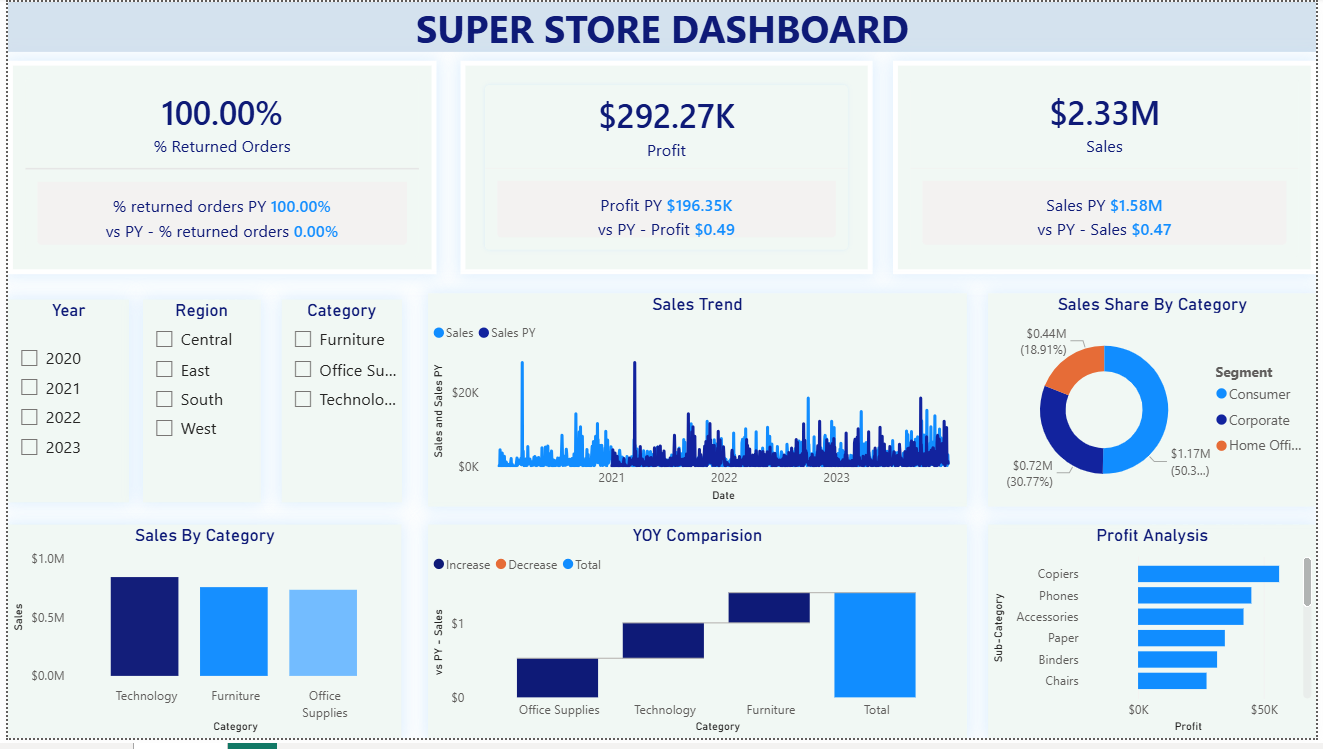

What the dashboard file says about the page in this screenshot:
{"tool":"powerbi","page":{"name":"Page 1","canvas":[1280,720],"ordinal":0},"visuals":[{"type":"cardVisual","fields":{"Data":["Key metrix 1.% Returned Orders"]},"box":[0,57.5,419.4,209.1],"z":0},{"type":"shape","box":[0,0,1280.3,48.9],"z":1000},{"type":"cardVisual","fields":{"Data":["Key metrix 1.Profit"]},"box":[442.7,57.5,403.5,209.1],"z":2000},{"type":"cardVisual","fields":{"Data":["Key metrix 1.Sales"]},"box":[865.8,57.5,414.5,209.1],"z":3000},{"type":"lineChart","title":"Sales Trend","fields":{"Category":["Date Table.Date"],"Y":["Key metrix 1.Sales","Key metrix 1.Sales PY"]},"box":[410.9,284.9,527,209.1],"z":4000},{"type":"clusteredColumnChart","title":"Sales By Category","fields":{"Category":["Orders.Category"],"Y":["Key metrix 1.Sales"]},"box":[0,511.1,385.2,209.1],"z":5000},{"type":"clusteredBarChart","title":"Profit Analysis","fields":{"Category":["Orders.Sub-Category"],"Y":["Key metrix 1.Profit"]},"box":[958.7,511.1,321.6,209.1],"z":6000},{"type":"waterfallChart","title":"YOY Comparision","fields":{"Y":["Key metrix 1.vs PY - Sales"],"Category":["Orders.Category"]},"box":[410.9,511.1,527,209.1],"z":7000},{"type":"slicer","title":"Year","fields":{"Values":["Date Table.Year"]},"box":[0,291,118.6,198.1],"z":8000},{"type":"slicer","title":"Region","fields":{"Values":["Orders.Region"]},"box":[132.1,291,114.9,198.1],"z":9000},{"type":"slicer","title":"Category","fields":{"Values":["Orders.Category"]},"box":[267.8,291,117.4,198.1],"z":10000},{"type":"donutChart","title":"Sales Share By Category","fields":{"Category":["Orders.Segment"],"Y":["Key metrix 1.Sales"]},"box":[958.7,284.9,321.6,209.1],"z":11000}]}

Visuals, with their boxes in screenshot pixels (x1, y1, x2, y2), scaled from the page's 1280x720 canvas onto the 1323x749 screenshot:
cardVisual - Key metrix 1.% Returned Orders: rect(0, 60, 433, 277)
shape: rect(0, 0, 1322, 51)
cardVisual - Key metrix 1.Profit: rect(458, 60, 875, 277)
cardVisual - Key metrix 1.Sales: rect(895, 60, 1322, 277)
"Sales Trend" lineChart: rect(425, 296, 969, 514)
"Sales By Category" clusteredColumnChart: rect(0, 532, 398, 748)
"Profit Analysis" clusteredBarChart: rect(991, 532, 1322, 748)
"YOY Comparision" waterfallChart: rect(425, 532, 969, 748)
"Year" slicer: rect(0, 303, 123, 509)
"Region" slicer: rect(137, 303, 255, 509)
"Category" slicer: rect(277, 303, 398, 509)
"Sales Share By Category" donutChart: rect(991, 296, 1322, 514)
